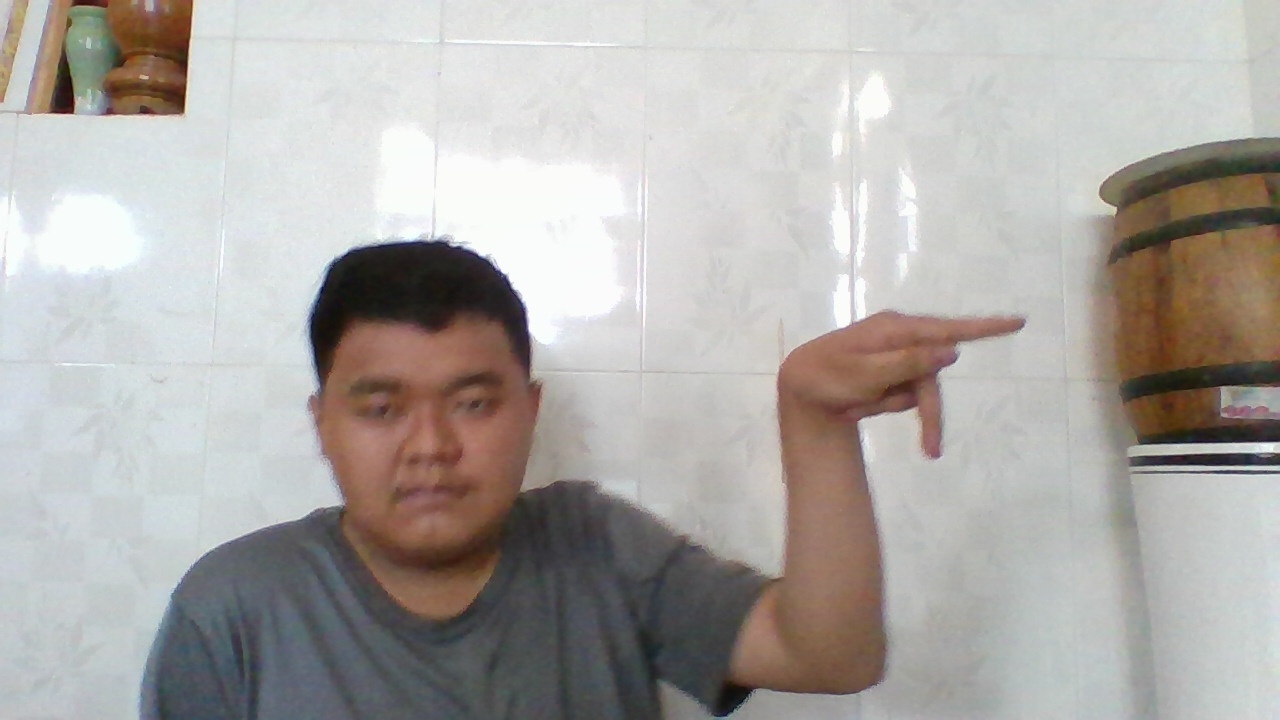P: (785, 309, 1030, 456)
